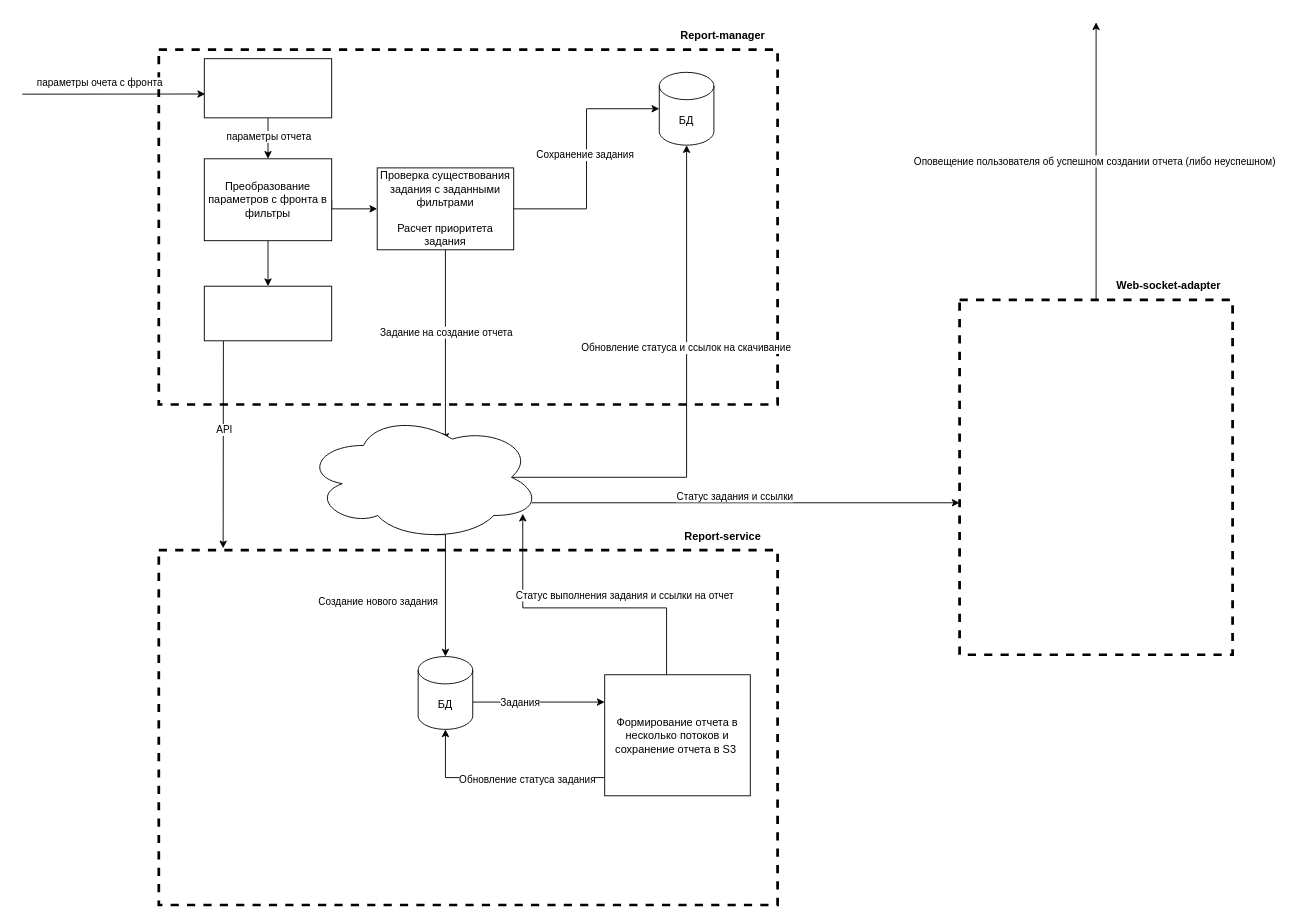
The diagram is 1295 pixels wide and 922 high, and some of its shapes have lost their labels. Here are the shapes that lost their labels. From the top down, the centre of each, then its label:
At pixel 267 88: "Проверка привилегий".
At pixel 267 313: "Набор мапперов".
At pixel 422 477: "Kafka".
